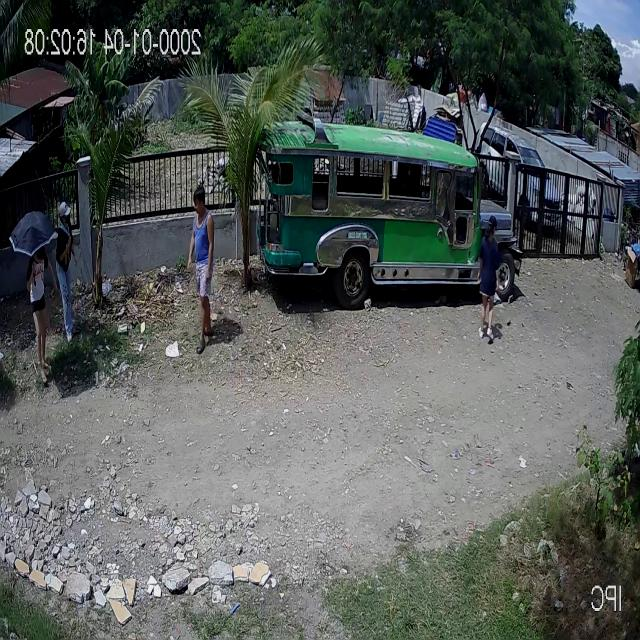standing: (54, 194, 86, 343)
walking: (188, 182, 219, 356), (27, 240, 61, 388), (475, 214, 503, 347)
